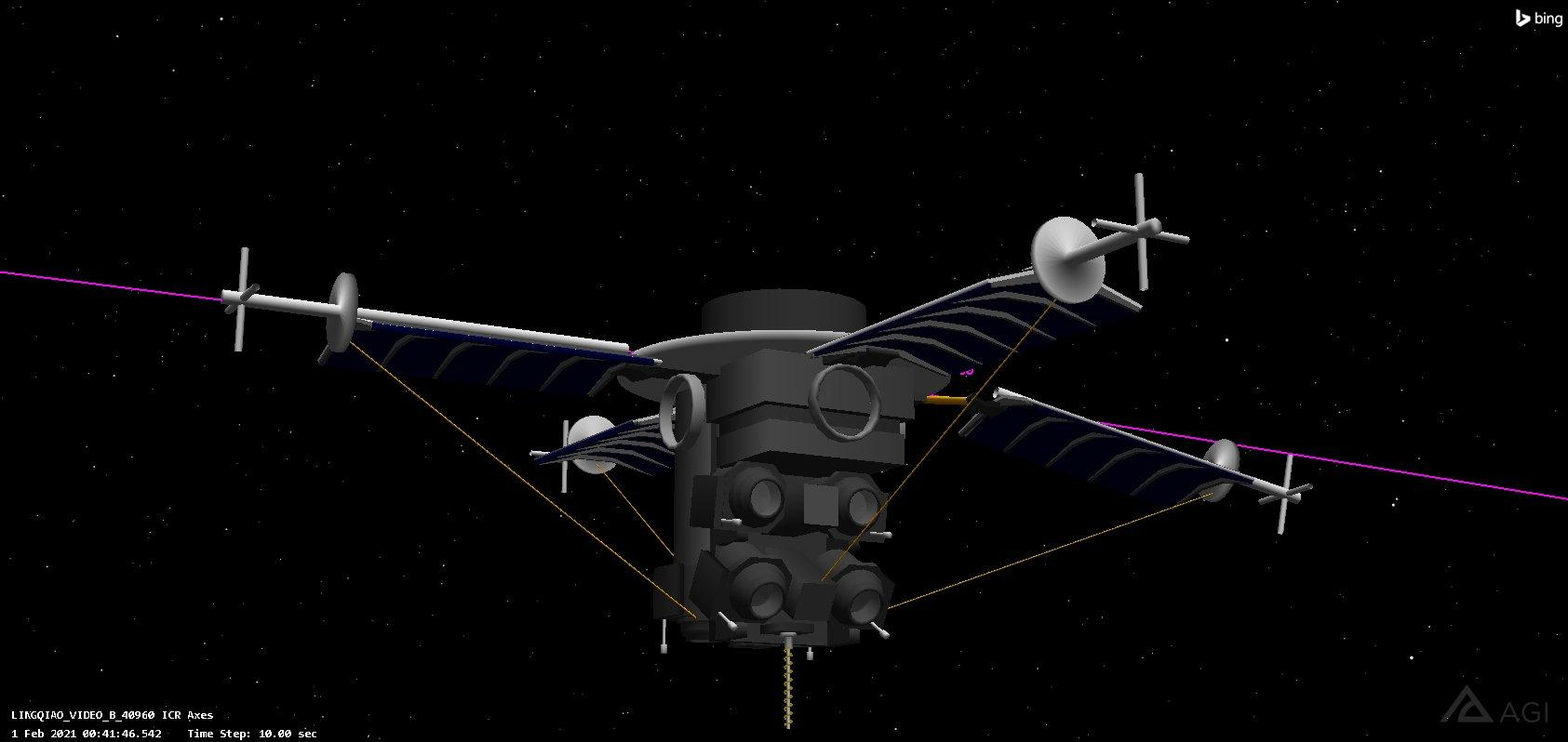antenna: (1029, 168, 1197, 307), (215, 239, 357, 360), (1197, 436, 1316, 536), (529, 413, 620, 496), (777, 627, 800, 736), (654, 613, 674, 655), (713, 608, 744, 633), (868, 616, 895, 644), (718, 512, 748, 530), (867, 528, 897, 542), (803, 638, 815, 664)
body: (656, 324, 918, 650)
solar: (805, 259, 1147, 380), (957, 386, 1255, 514), (325, 305, 665, 404), (532, 405, 682, 480)
thruster: (703, 286, 870, 337), (733, 466, 787, 528), (833, 567, 885, 630), (731, 566, 789, 622), (837, 475, 884, 534)
